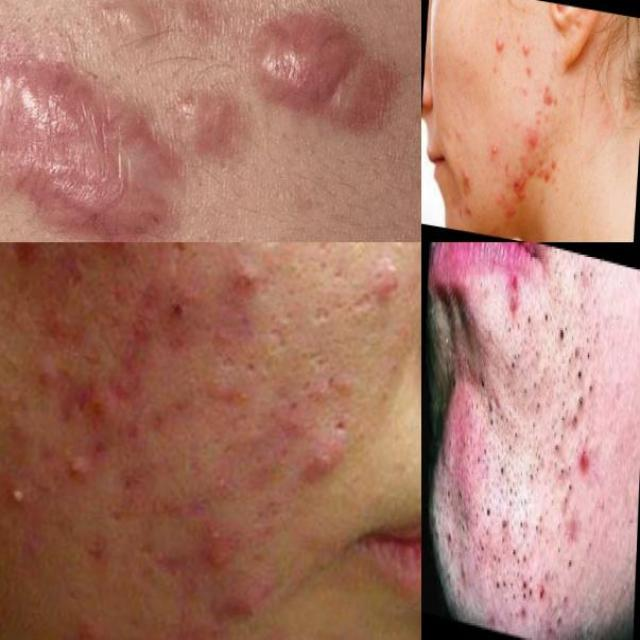Pimples: (0, 36, 214, 242), (248, 0, 414, 131), (60, 0, 194, 62), (491, 473, 537, 639), (555, 302, 605, 436), (497, 252, 529, 422), (288, 424, 363, 494), (443, 468, 478, 609), (29, 298, 95, 361), (186, 520, 252, 581), (212, 258, 282, 310), (198, 91, 242, 170), (211, 575, 279, 626), (0, 466, 52, 526), (80, 382, 126, 444), (362, 258, 407, 308), (86, 242, 146, 275), (55, 444, 100, 488), (0, 242, 57, 273), (504, 162, 534, 210), (490, 23, 512, 77), (542, 74, 566, 120), (610, 85, 635, 122), (575, 430, 590, 482), (519, 34, 540, 66), (486, 137, 504, 171)
